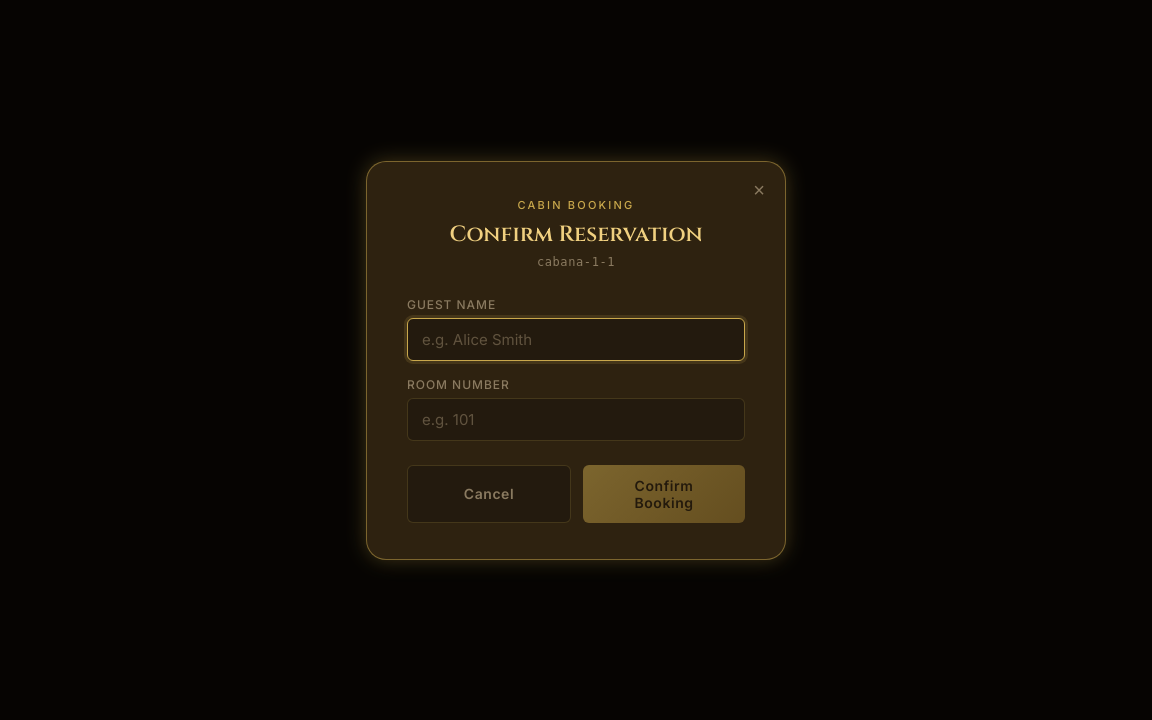
BookingModal › shows an error alert on a 400 response
This screenshot has width=1152, height=720.
Type "Wrong Name" into the field labelled "Guest Name".
click(576, 339); type("Wrong Name")  # box top-left (407, 318), bottom-right (745, 360)
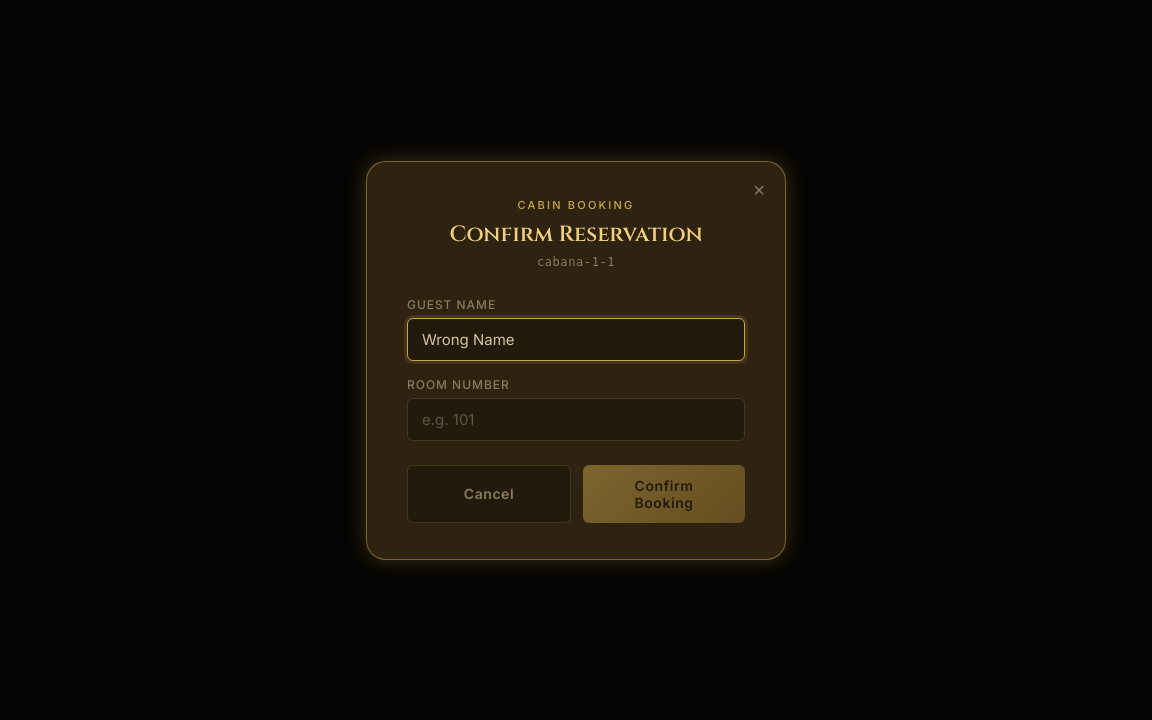
Type "999" into the field labelled "Room Number".
click(576, 419); type("999")  # box top-left (407, 398), bottom-right (745, 440)
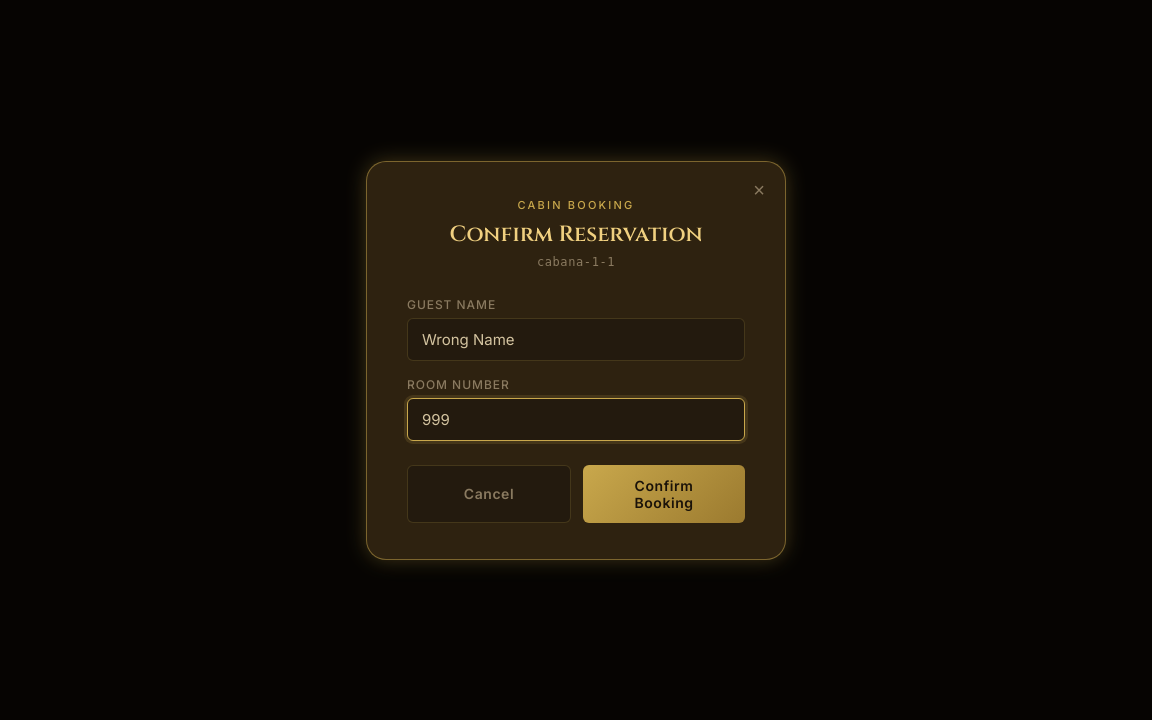
Click the button "Confirm Booking".
click(664, 494)  # box top-left (583, 464), bottom-right (745, 522)
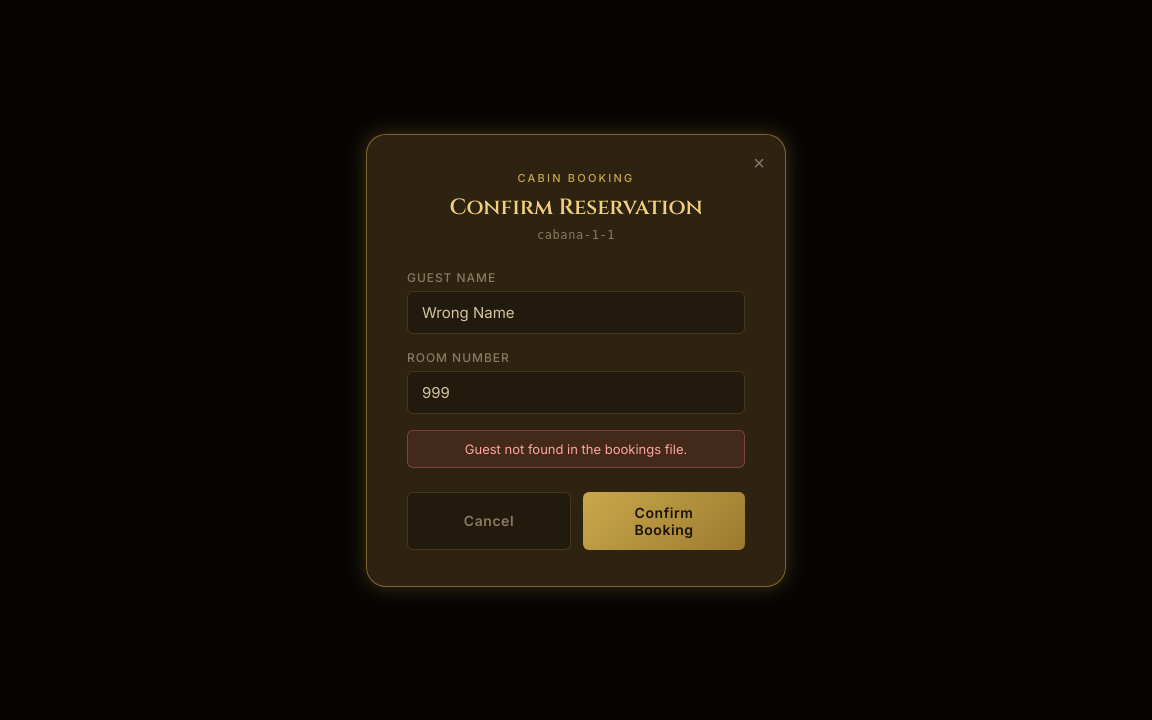
Check: the text "Guest not found in the bookings file." is shown, box top-left (407, 430), bottom-right (745, 468)
